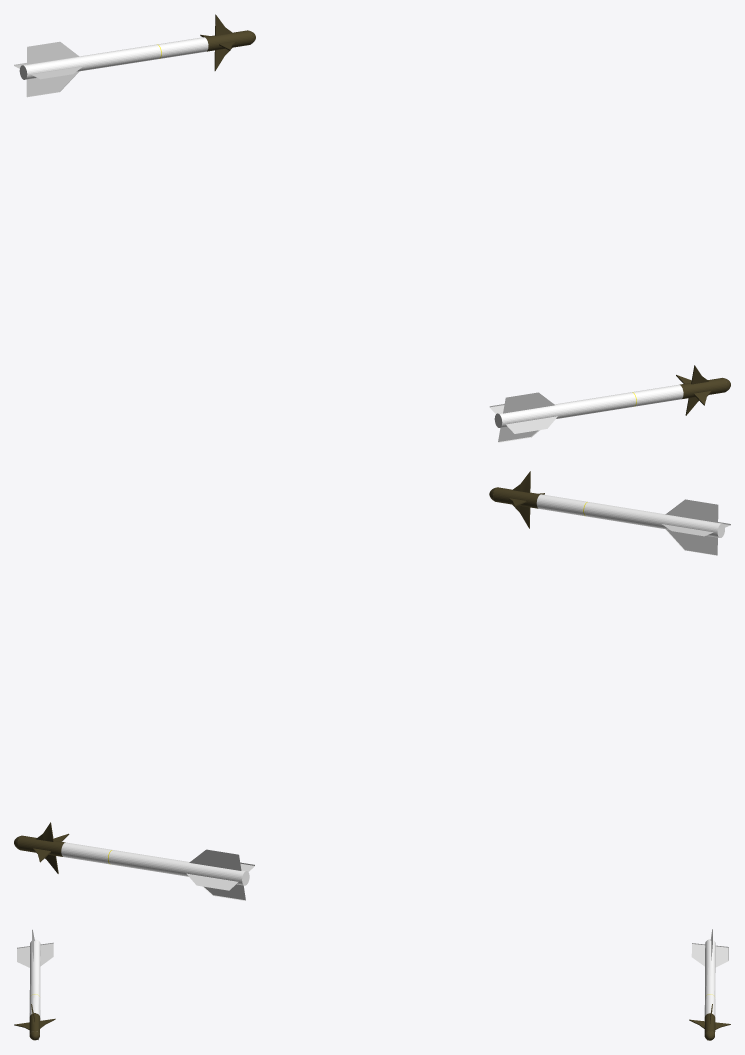
Rendered from f35baim912.glb.
The picture shows the model from 3 angles, top to bottom: view 1: azimuth 30°, elevation 25°; view 2: azimuth 150°, elevation 25°; view 3: azimuth 270°, elevation 25°; orthographic projection. The views are drawn at different scales.
Parts seen in each view (by area): view 1: 円柱.002, 円柱.005; view 2: 円柱.005, 円柱.002; view 3: 円柱.005, 円柱.002.
Boxes of the visible parts, bbox=[...] form: 円柱.002: bbox=[14, 14, 255, 97]; 円柱.005: bbox=[489, 365, 730, 442]; 円柱.005: bbox=[489, 471, 730, 555]; 円柱.002: bbox=[14, 822, 254, 900]; 円柱.005: bbox=[14, 929, 55, 1040]; 円柱.002: bbox=[689, 929, 730, 1040].
Size of the model in its own units: 3.38 by 0.928 by 12.73.
Materials: 4 (4 with a texture image).
